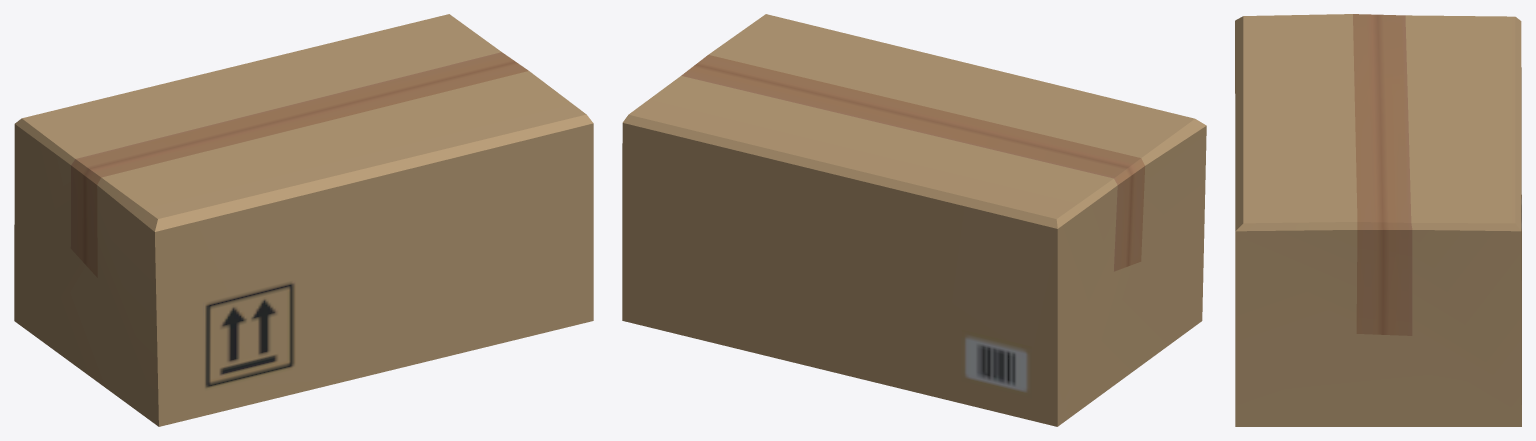
File: SM_Prop_Warehouse_Cardboard_Box_01.obj
The picture shows the model from 3 angles, left to right: view 1: azimuth 30°, elevation 25°; view 2: azimuth 150°, elevation 25°; view 3: azimuth 270°, elevation 25°; orthographic projection.
Visible parts, largest first — view 1: SM_Prop_Warehouse_Cardboard_Box_01_0; view 2: SM_Prop_Warehouse_Cardboard_Box_01_0; view 3: SM_Prop_Warehouse_Cardboard_Box_01_0.
Boxes of the visible parts, bbox=[...] form: SM_Prop_Warehouse_Cardboard_Box_01_0: bbox=[14, 14, 593, 426]; SM_Prop_Warehouse_Cardboard_Box_01_0: bbox=[622, 14, 1206, 426]; SM_Prop_Warehouse_Cardboard_Box_01_0: bbox=[1235, 14, 1521, 426].
Size of the model in its own units: 0.723 by 0.3236 by 0.413.
Materials: 1 (1 with a texture image).
